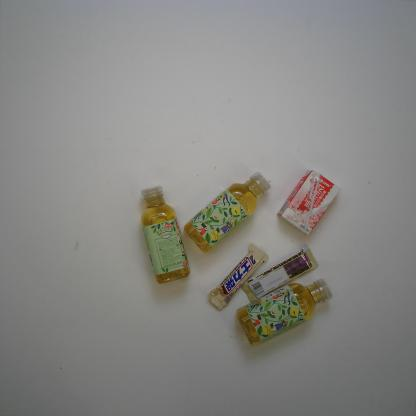Chocolate: (240, 246, 321, 305), (204, 242, 272, 310)
Drink: (181, 169, 273, 255), (234, 276, 334, 350), (136, 184, 192, 287)
Milk: (274, 168, 341, 239)
